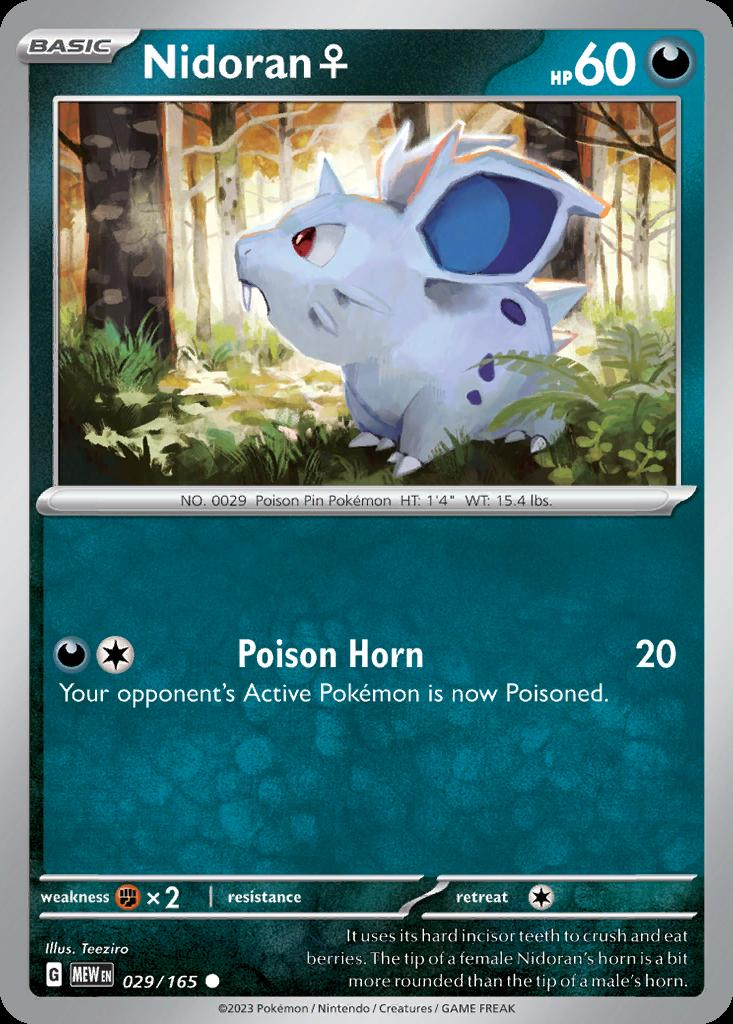card: (5, 4, 733, 1023)
hp: (533, 31, 701, 97)
name: (133, 30, 359, 93)
set num: (120, 964, 209, 993)
set symbol: (67, 961, 116, 990)
